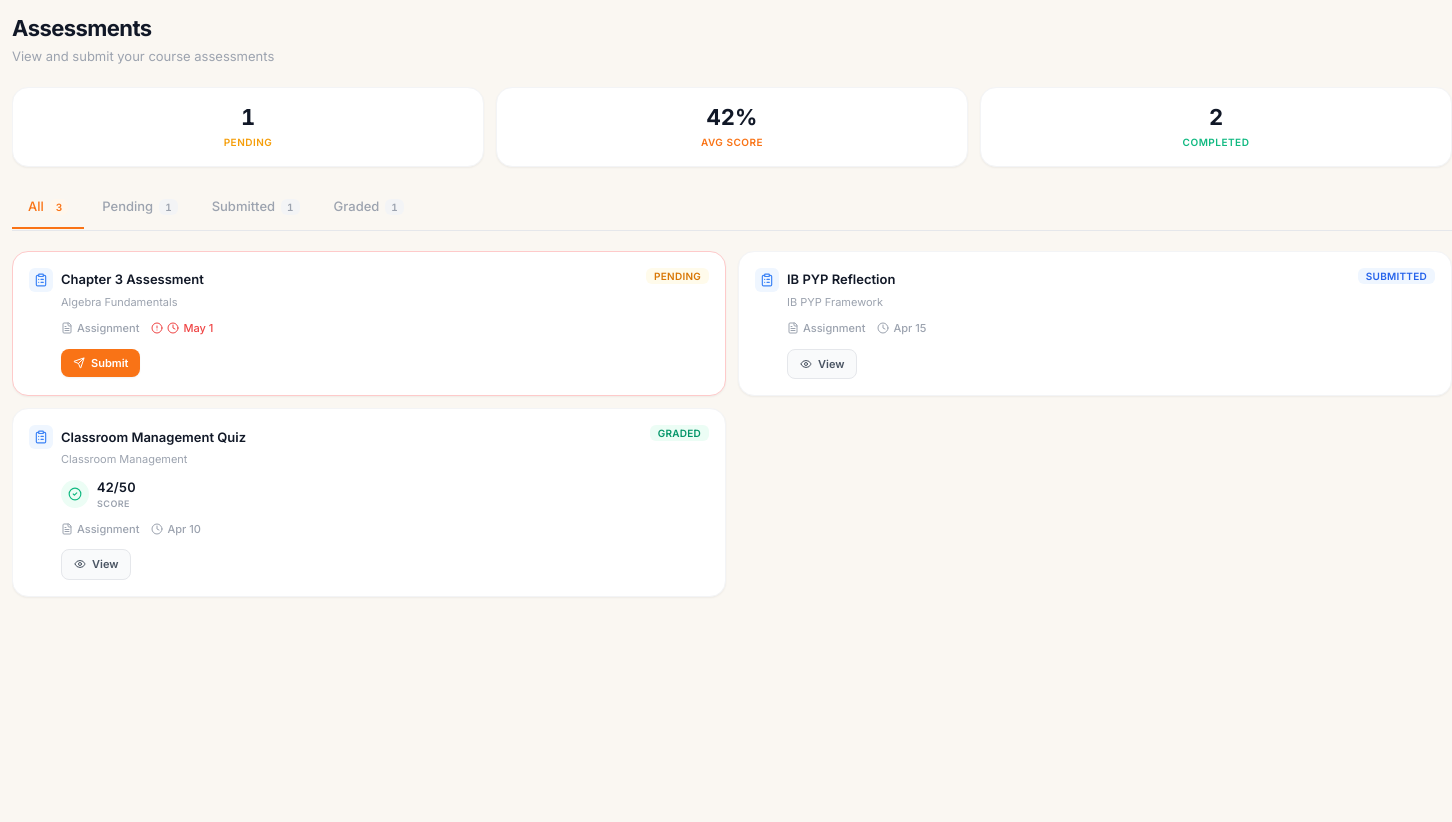
Test case: AssignmentsPage › Tab filtering › clicking "Pending" tab shows only the pending assignment
The image size is (1452, 822).
Expected: the heading "Chapter 3 Assessment" is shown, x1=61 y1=271 x2=204 y2=288
Click the button "Pending1": click(140, 208) x1=86 y1=187 x2=194 y2=228
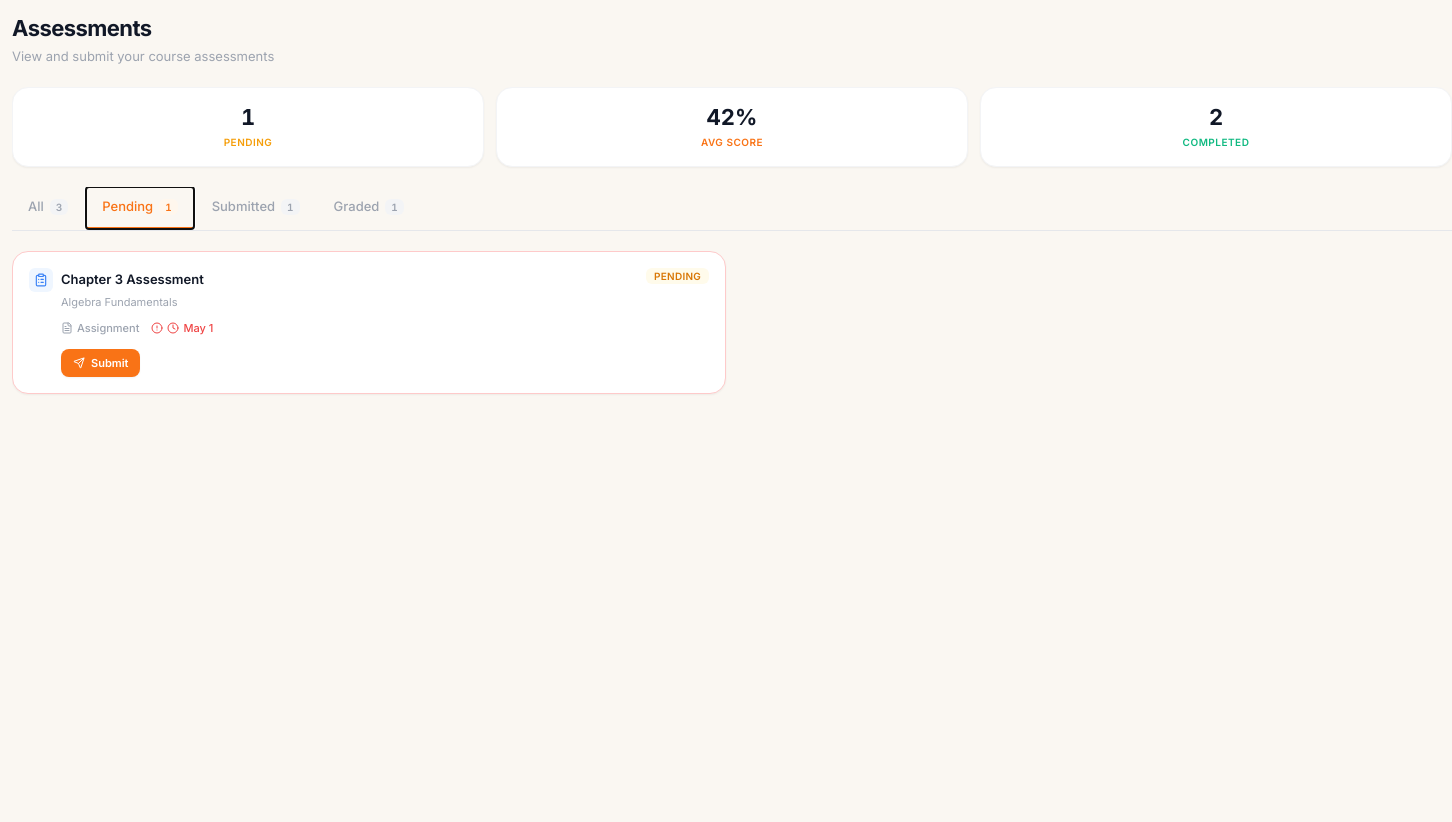
Expected: the heading "Chapter 3 Assessment" is shown, x1=61 y1=271 x2=204 y2=288
Result: the heading "IB PYP Reflection" is gone
Result: the heading "Classroom Management Quiz" is gone
